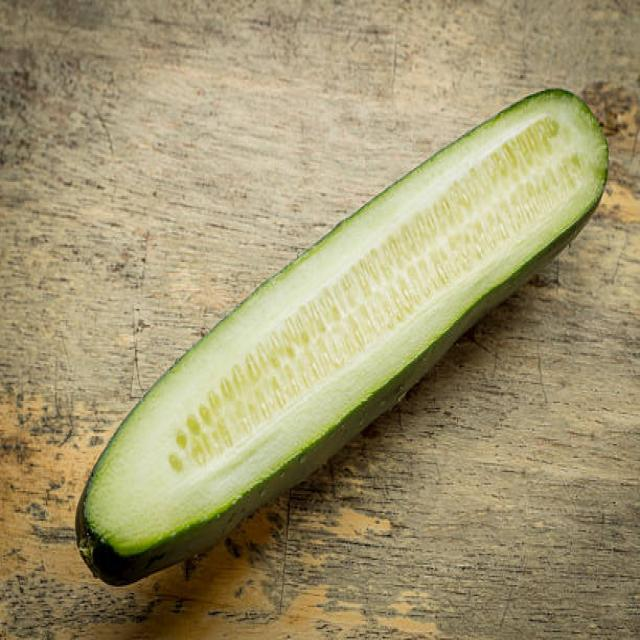cucumber: (75, 85, 610, 584)
